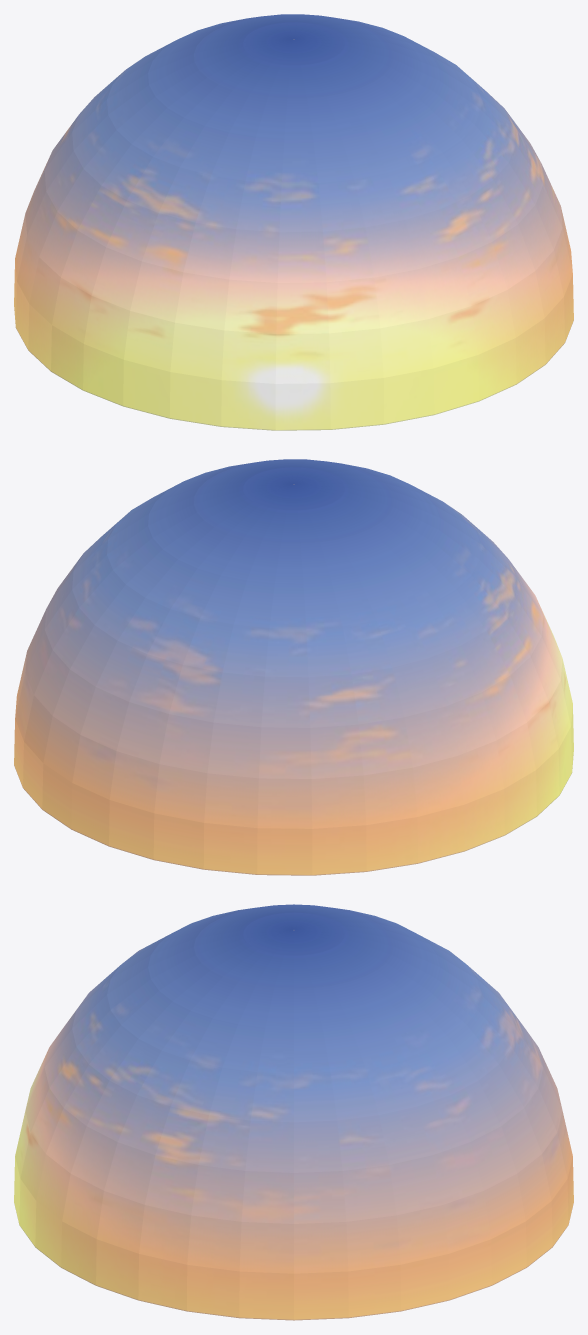
The model's file is lugar-anchorage-ciudad.glb.
The picture shows the model from 3 angles, top to bottom: view 1: azimuth 30°, elevation 25°; view 2: azimuth 150°, elevation 25°; view 3: azimuth 270°, elevation 25°; orthographic projection.
Visible parts, largest first — view 1: planoC; view 2: planoC; view 3: planoC.
Boxes of the visible parts, x1=… form: planoC: x1=14, y1=14, x2=573, y2=430; planoC: x1=14, y1=459, x2=573, y2=875; planoC: x1=14, y1=904, x2=573, y2=1320.
Bounding box in the file's own units: 6584 × 3530 × 6584.
7 materials, 6 textured.
